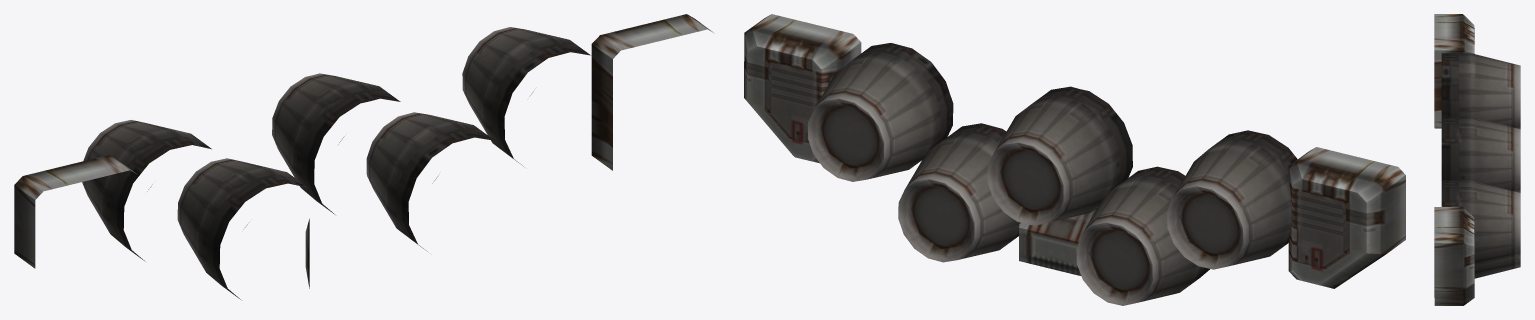
The model's file is engine_hgn_explorer_04_ion_02_t1.glb.
3 views of the same model, side by side, from view 1: azimuth 30°, elevation 25°; view 2: azimuth 150°, elevation 25°; view 3: azimuth 270°, elevation 25° (orthographic). The views are drawn at different scales.
Parts seen in each view (by area): view 1: hgn_flagship_explorer_04_engine_m_01; view 2: hgn_flagship_explorer_04_engine_m_01; view 3: hgn_flagship_explorer_04_engine_m_01.
Boxes of the visible parts, <box> form: hgn_flagship_explorer_04_engine_m_01: <box>14,14,714,299</box>; hgn_flagship_explorer_04_engine_m_01: <box>744,14,1405,305</box>; hgn_flagship_explorer_04_engine_m_01: <box>1434,14,1520,305</box>.
Bounding box in the file's own units: 2.9 × 0.7488 × 0.4656.
Materials: 1 (1 with a texture image).
